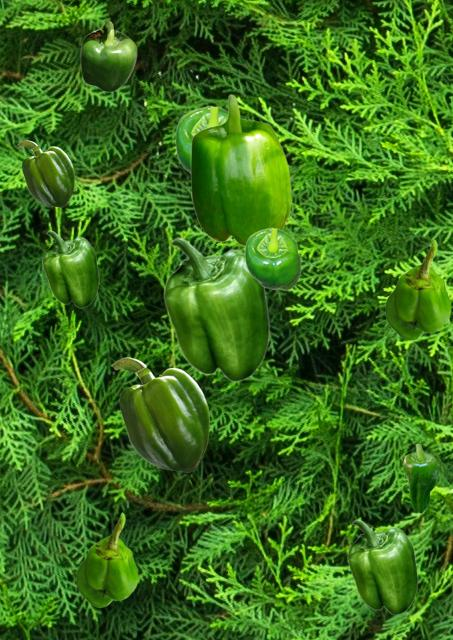bell_pepper: (163, 237, 269, 381), (190, 94, 290, 245), (111, 357, 208, 471), (347, 519, 417, 614), (385, 239, 450, 339), (76, 512, 137, 606), (42, 230, 98, 307), (80, 20, 136, 91), (17, 140, 73, 206), (174, 105, 226, 173), (244, 227, 300, 289), (403, 444, 437, 512)
